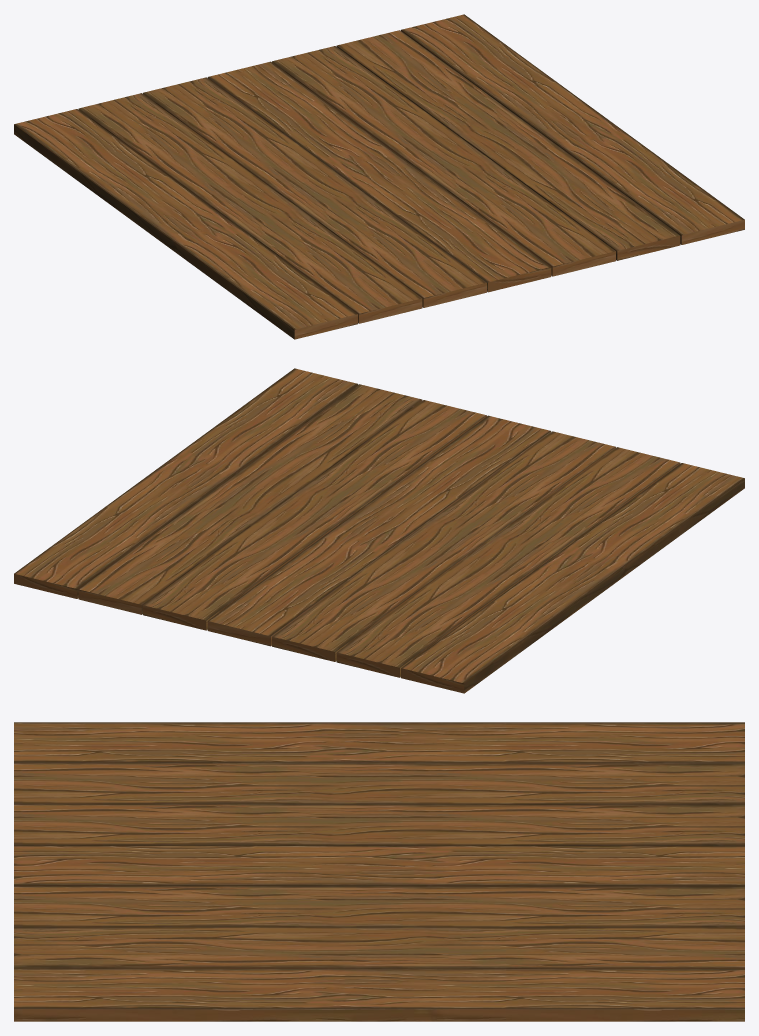
Rendered from Floor.fbx.
3 renders of one model, top to bottom at view 1: azimuth 30°, elevation 25°; view 2: azimuth 150°, elevation 25°; view 3: azimuth 270°, elevation 25°, orthographic. The views are drawn at different scales.
Visible parts, largest first — view 1: Floor; view 2: Floor; view 3: Floor.
Part boxes in pixels (x1,y1,x2,y2): Floor: (14, 14, 744, 339); Floor: (14, 368, 744, 693); Floor: (14, 722, 744, 1021).
Bounding box in the file's own units: 165 × 3.5 × 177.
Materials: 1 (1 with a texture image).
